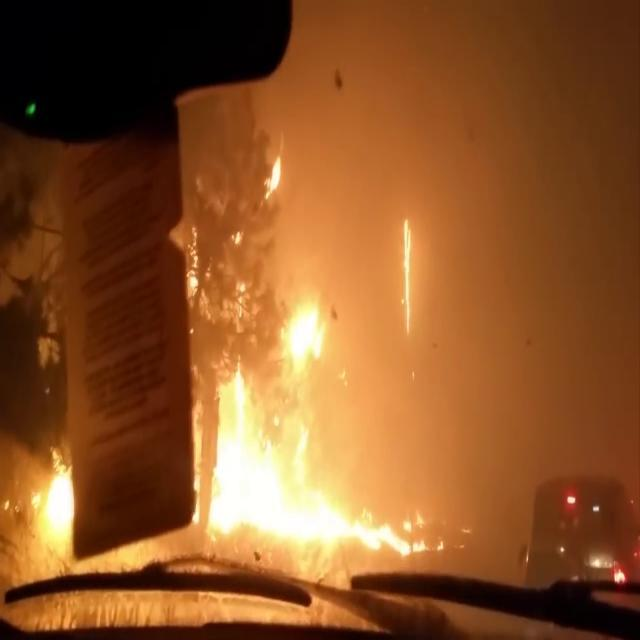Fire: (194, 101, 446, 574), (26, 398, 110, 599)
Smoke: (480, 11, 640, 502)
